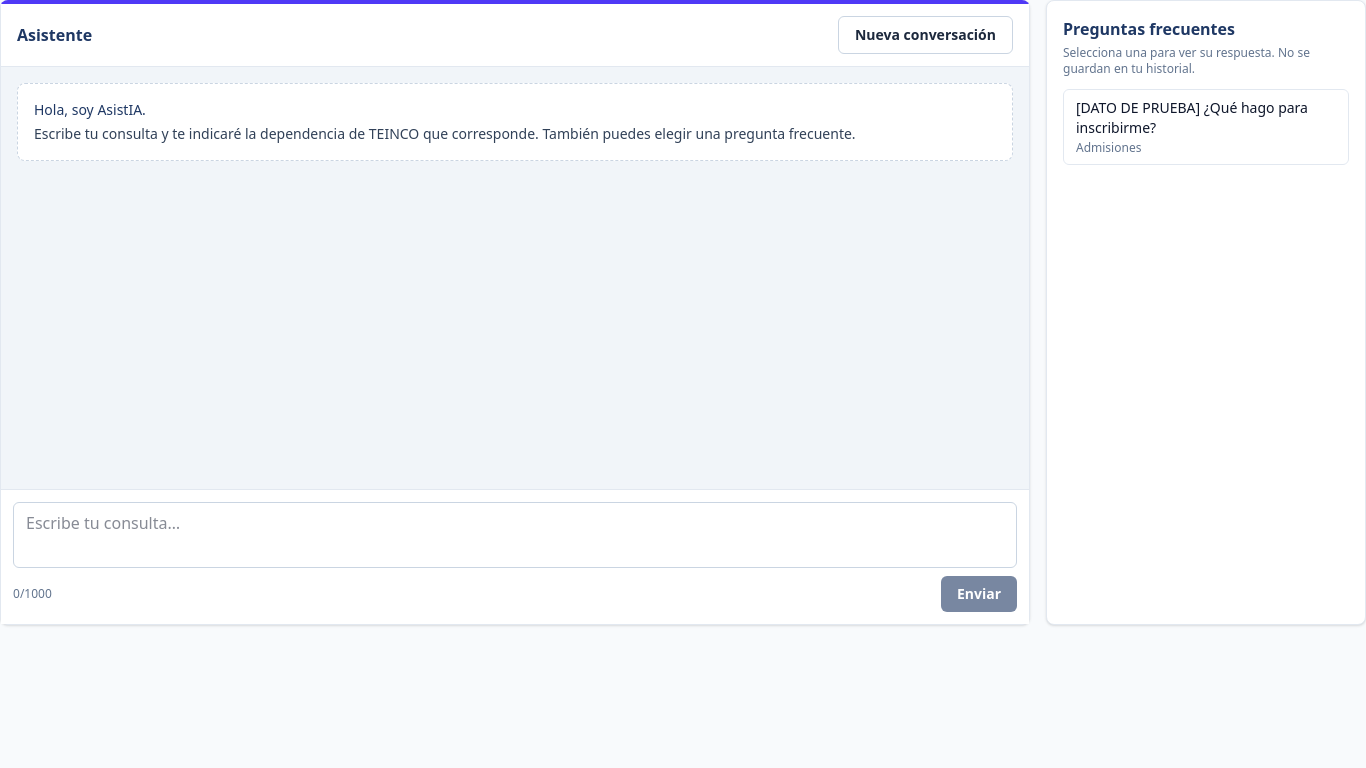
chat › distingue visualmente el escalamiento y lo indica como caso registrado
Step 1. Type "algo raro" into the text box labelled "Escribe tu consulta" → (515, 535), box [13, 502, 1017, 568]
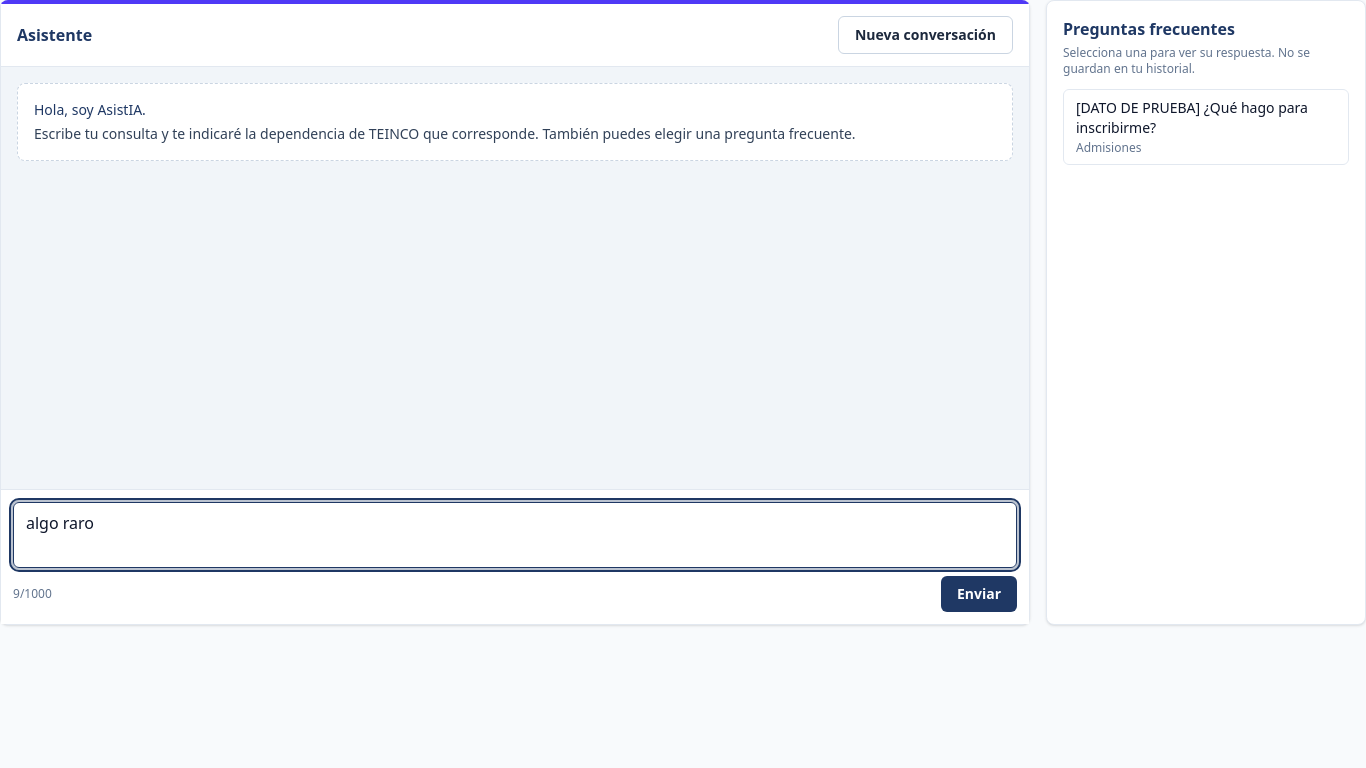
Step 2. Click the button "Enviar" → (979, 594), box [941, 576, 1017, 612]
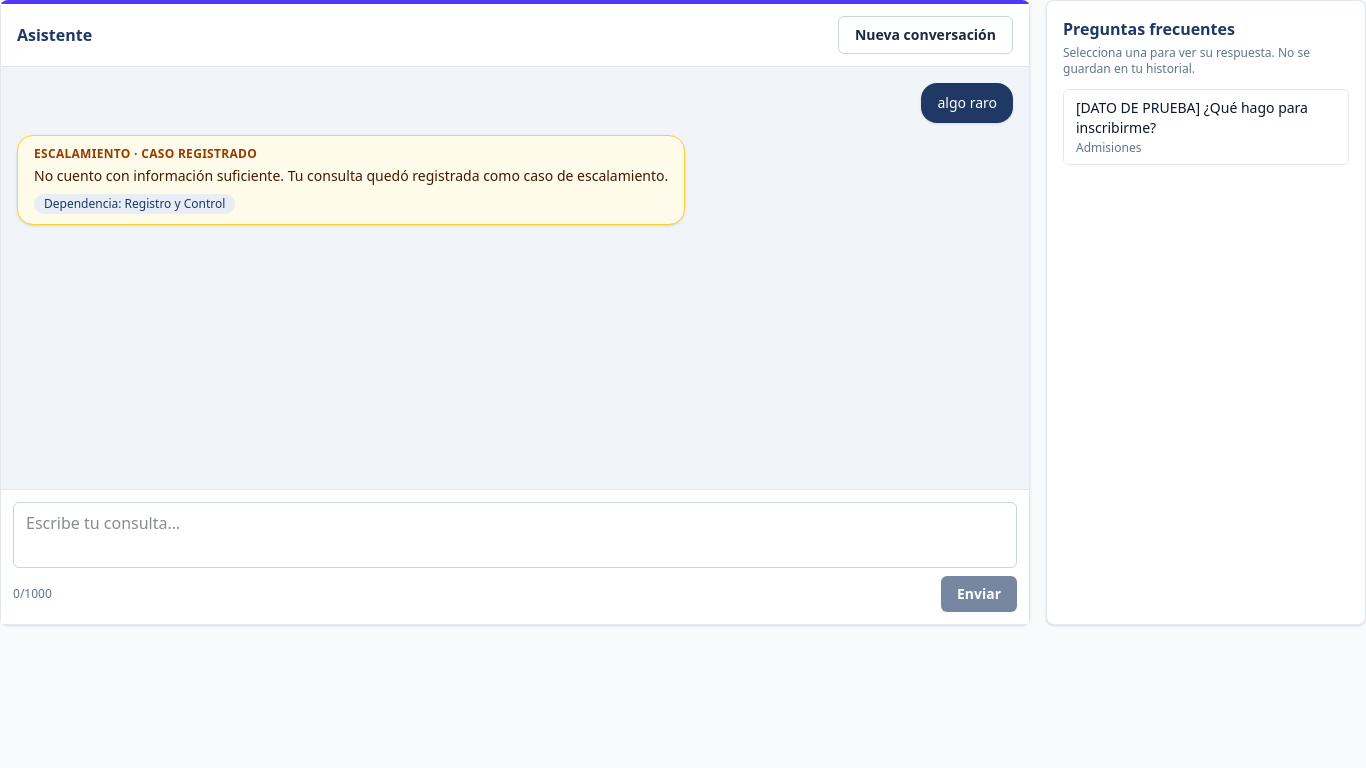
Now the text "Escalamiento · caso registrado" is shown, box [34, 145, 257, 162]
Now the text "Dependencia: Registro y Control" is shown, box [34, 194, 235, 214]
